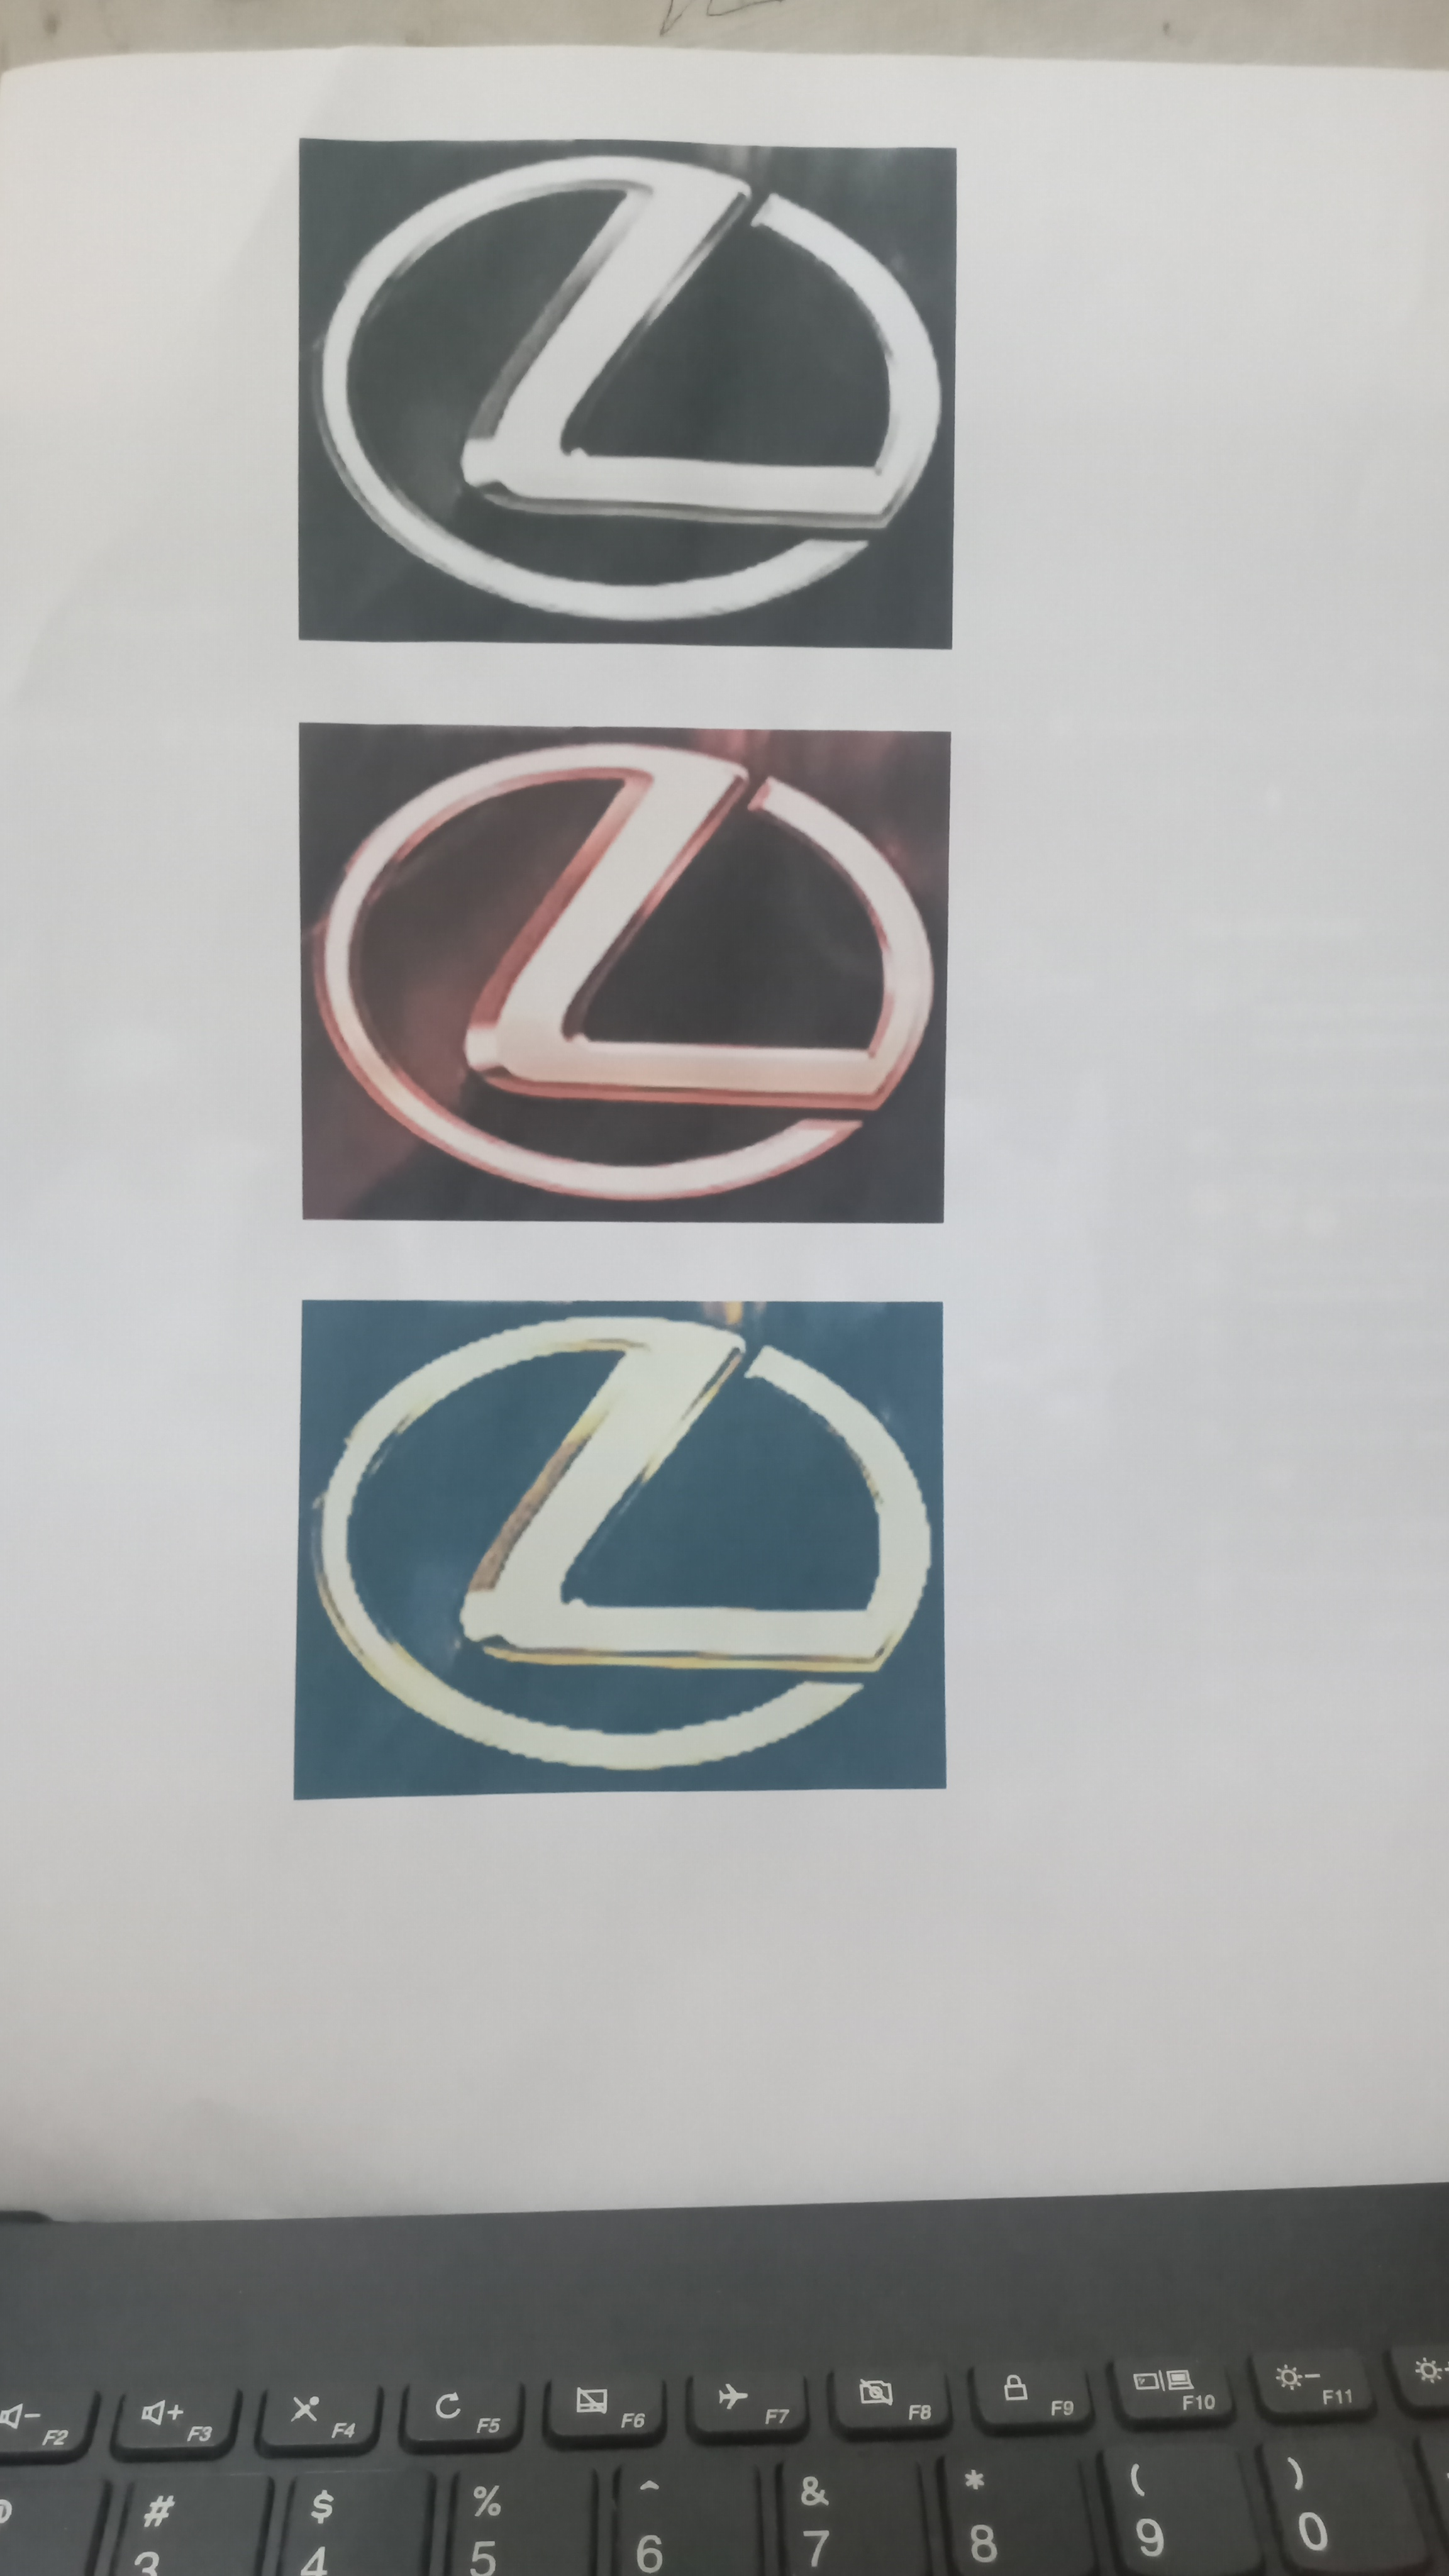Lexus: (303, 133, 947, 630), (303, 1299, 941, 1790), (299, 729, 934, 1221)
